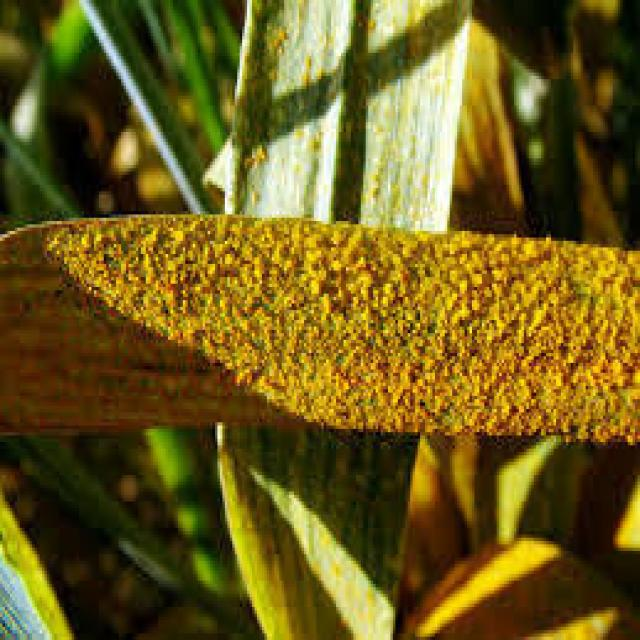wheat-yellowrust: (0, 214, 640, 445)
